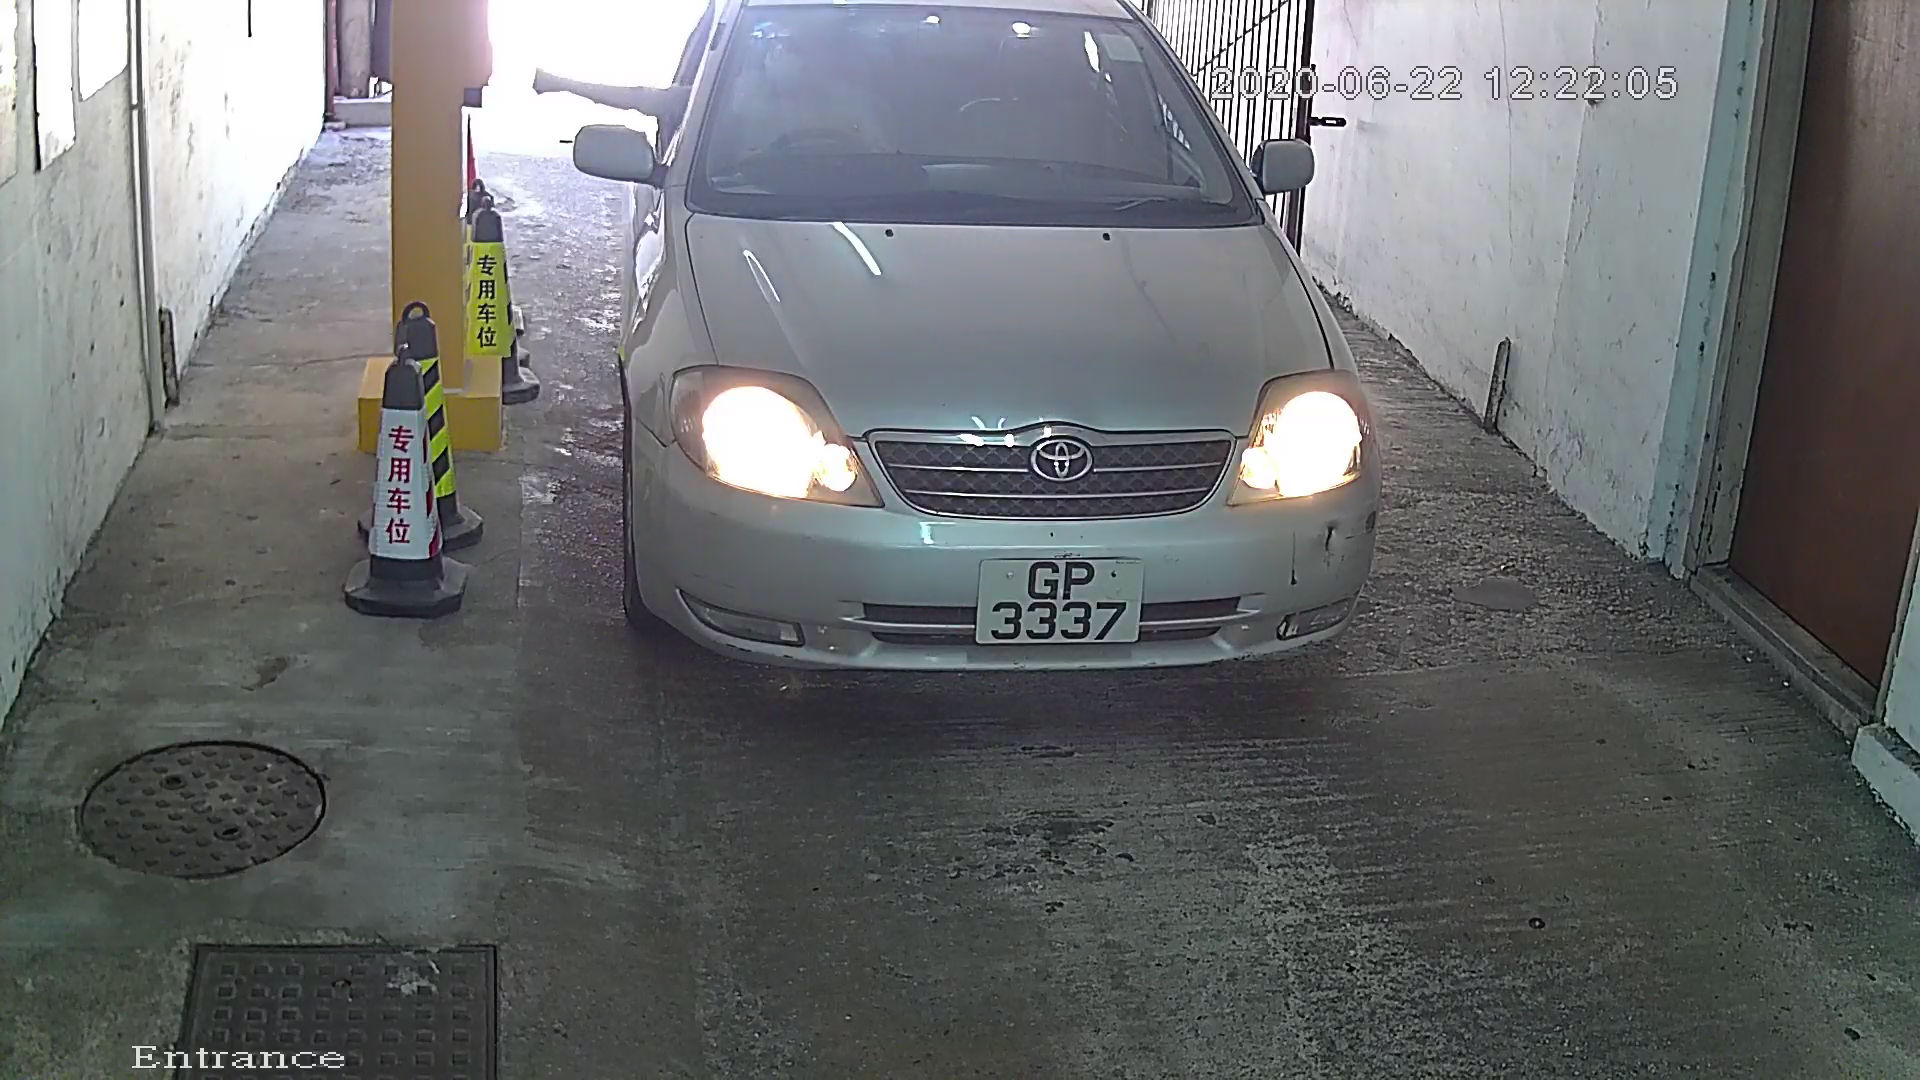privatecar: (533, 3, 1425, 735)
